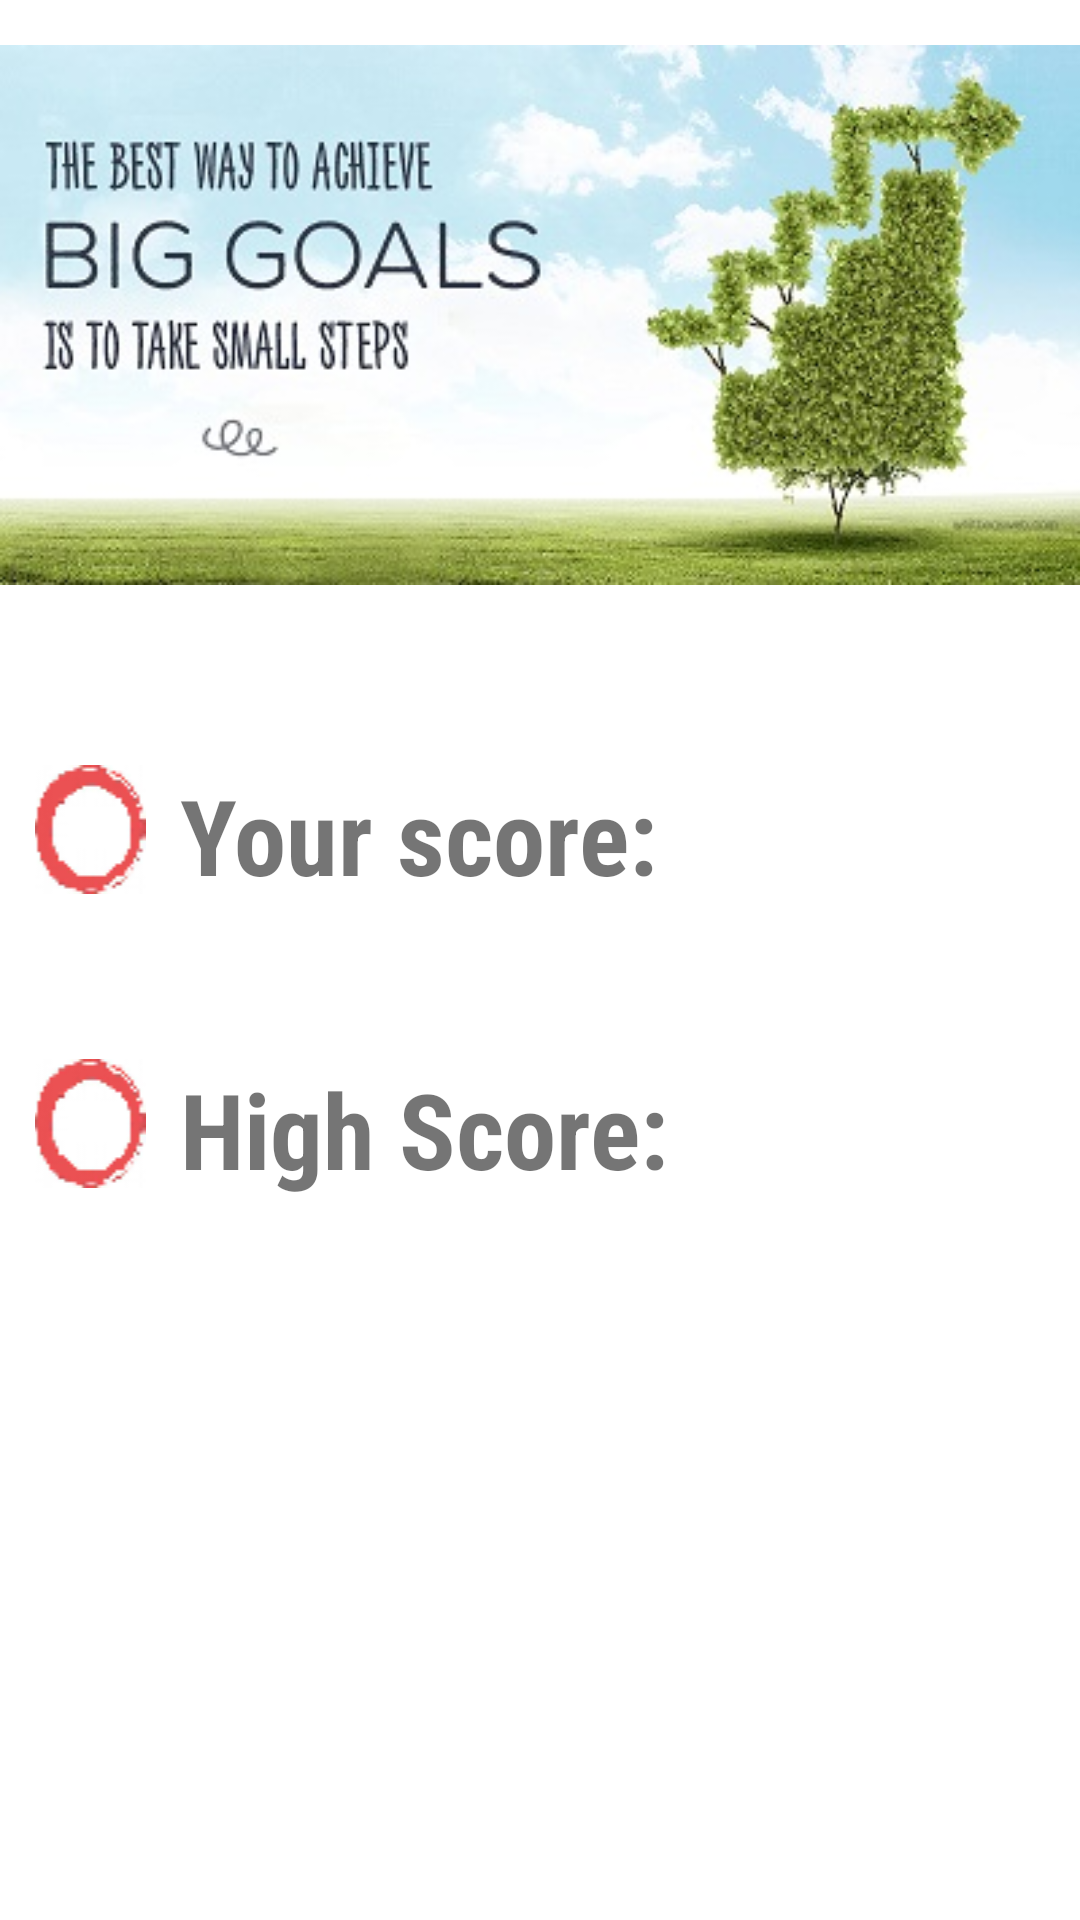

Locate icon controls on the screen. Image size 1080 × 1920, boxes as (x1, y1, x2, y2).
circle: (35, 765, 146, 894), (35, 1059, 146, 1188)
